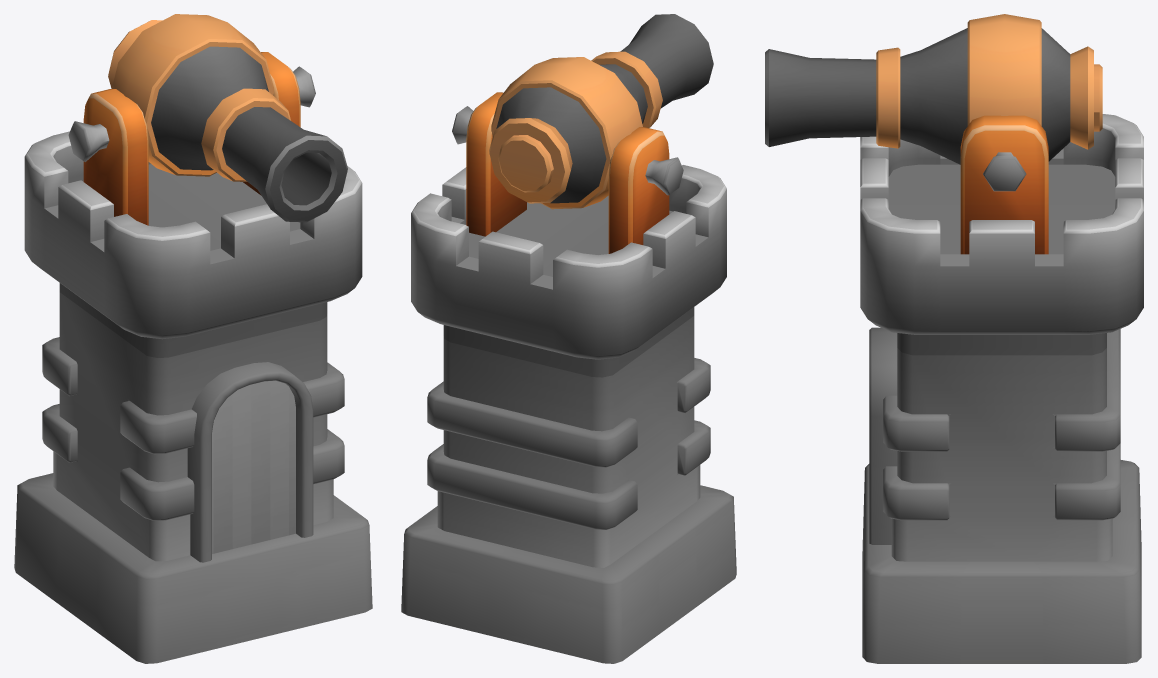
Rendered from Canon Tower 2.fbx.
The picture shows the model from 3 angles, left to right: view 1: azimuth 30°, elevation 25°; view 2: azimuth 150°, elevation 25°; view 3: azimuth 270°, elevation 25°; orthographic projection. The views are drawn at different scales.
Visible parts, largest first — view 1: Tower_Lv2, Canon_Lv2, rotateCanon; view 2: Tower_Lv2, Canon_Lv2, rotateCanon; view 3: Tower_Lv2, Canon_Lv2, rotateCanon.
Part boxes in pixels (x1,y1,x2,y2): Tower_Lv2: (14,131,372,663); Canon_Lv2: (108,14,347,222); rotateCanon: (68,52,315,225); Tower_Lv2: (401,165,736,663); Canon_Lv2: (489,14,713,209); rotateCanon: (452,92,683,253); Tower_Lv2: (860,114,1143,663); Canon_Lv2: (765,14,1102,164); rotateCanon: (960,115,1048,254).
Bounding box in the file's own units: 0.6684 × 1.52 × 0.893.
1 material, 1 textured.
